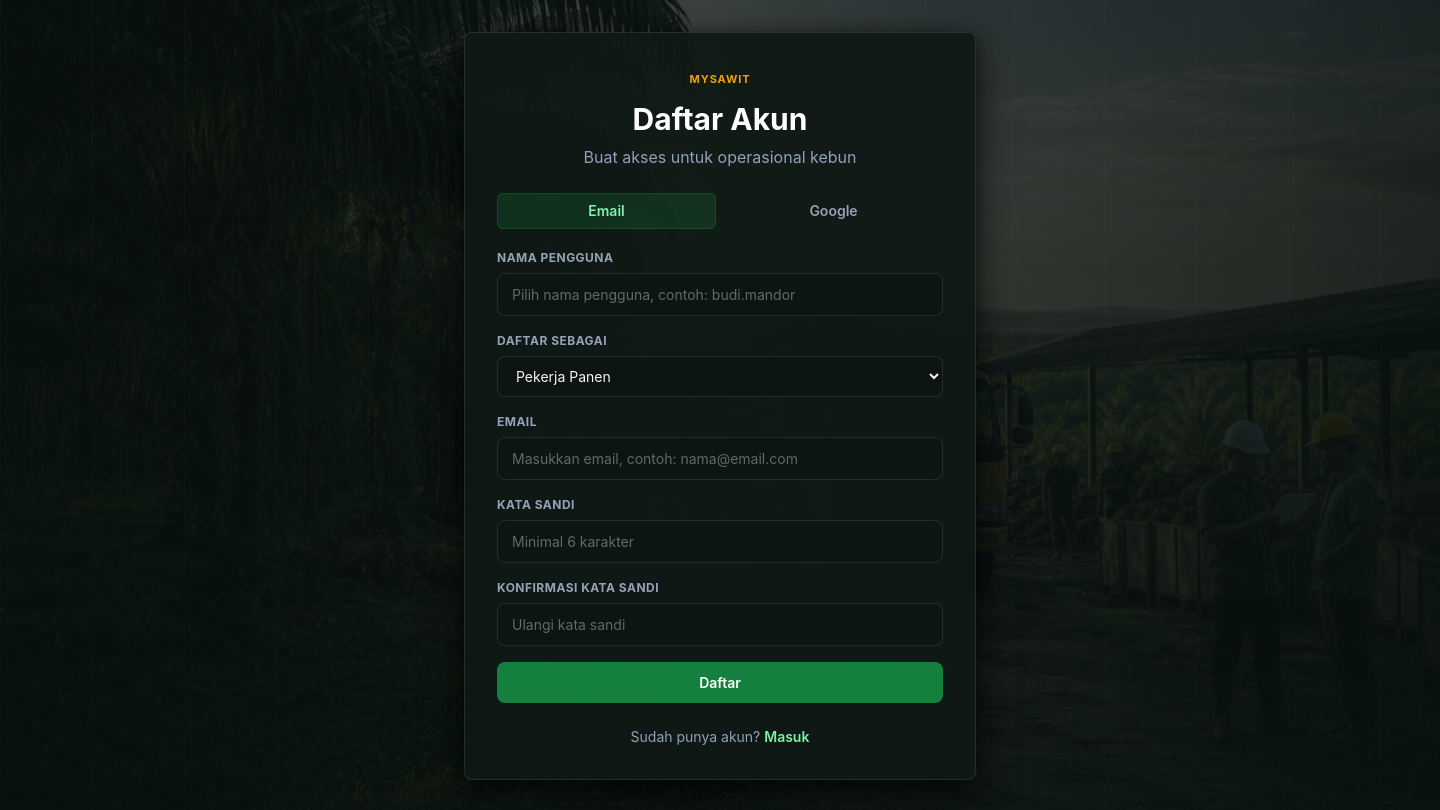
Test: RegisterPage › shows error from Error instance on register failure
This screenshot has width=1440, height=810.
Step 1. Type "user" into the field with placeholder "Pilih nama pengguna, contoh: budi.mandor" → (720, 294), box [497,273,943,316]
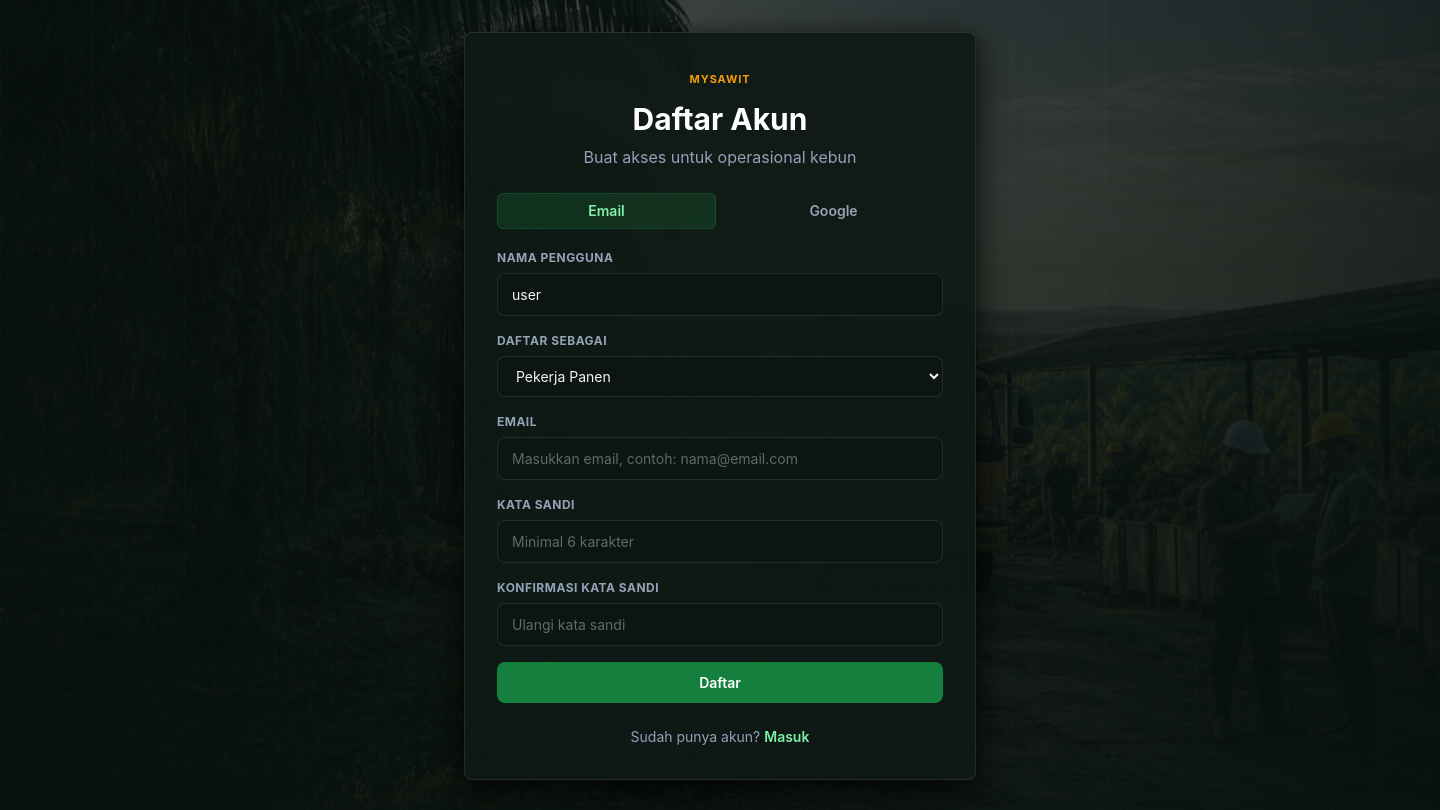
Step 2. Type "user@mail.com" into the field with placeholder "Masukkan email, contoh: nama@email.com" → (720, 458), box [497,437,943,480]
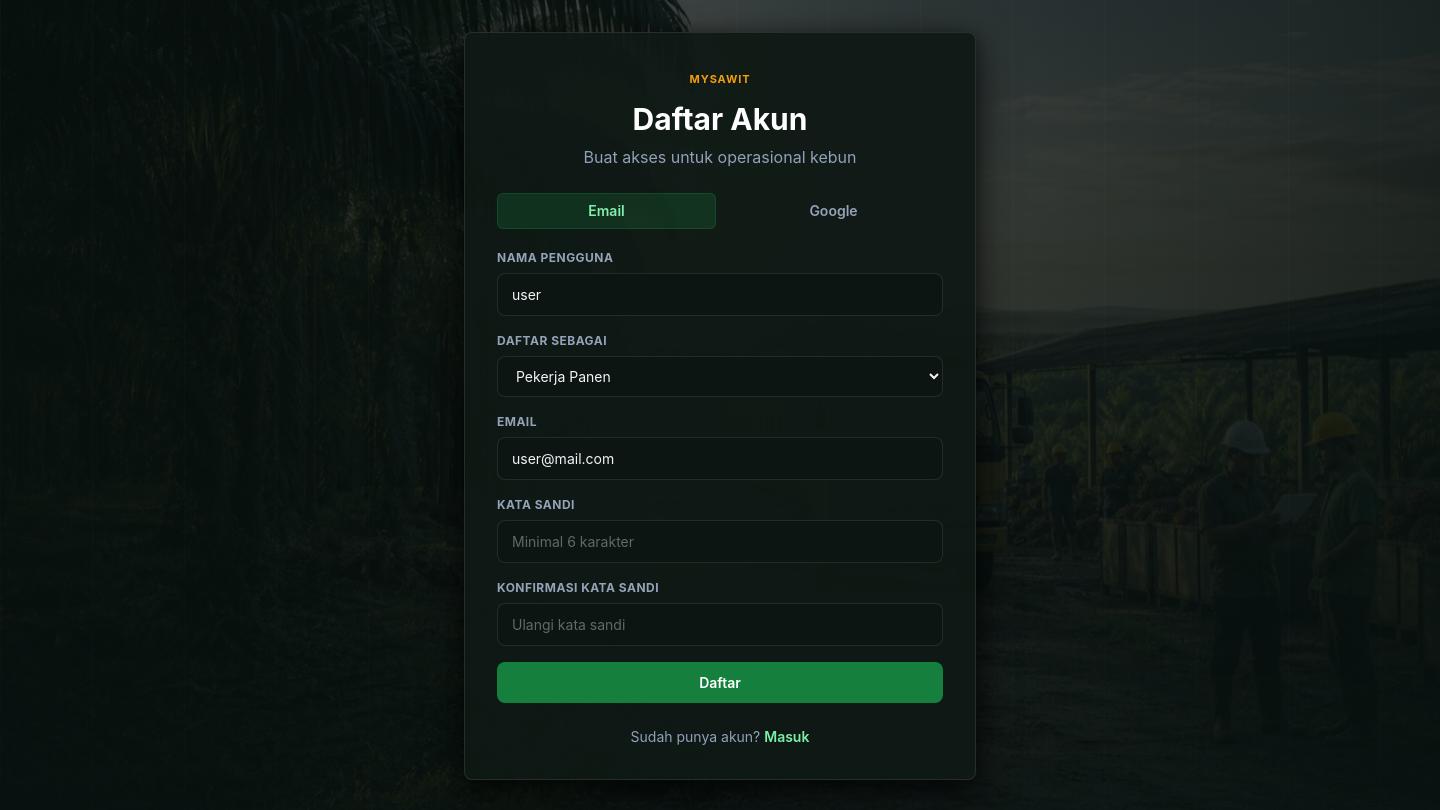
Step 3. Type "secret123" into the password field with placeholder "Minimal 6 karakter" → (720, 542), box [497,520,943,563]
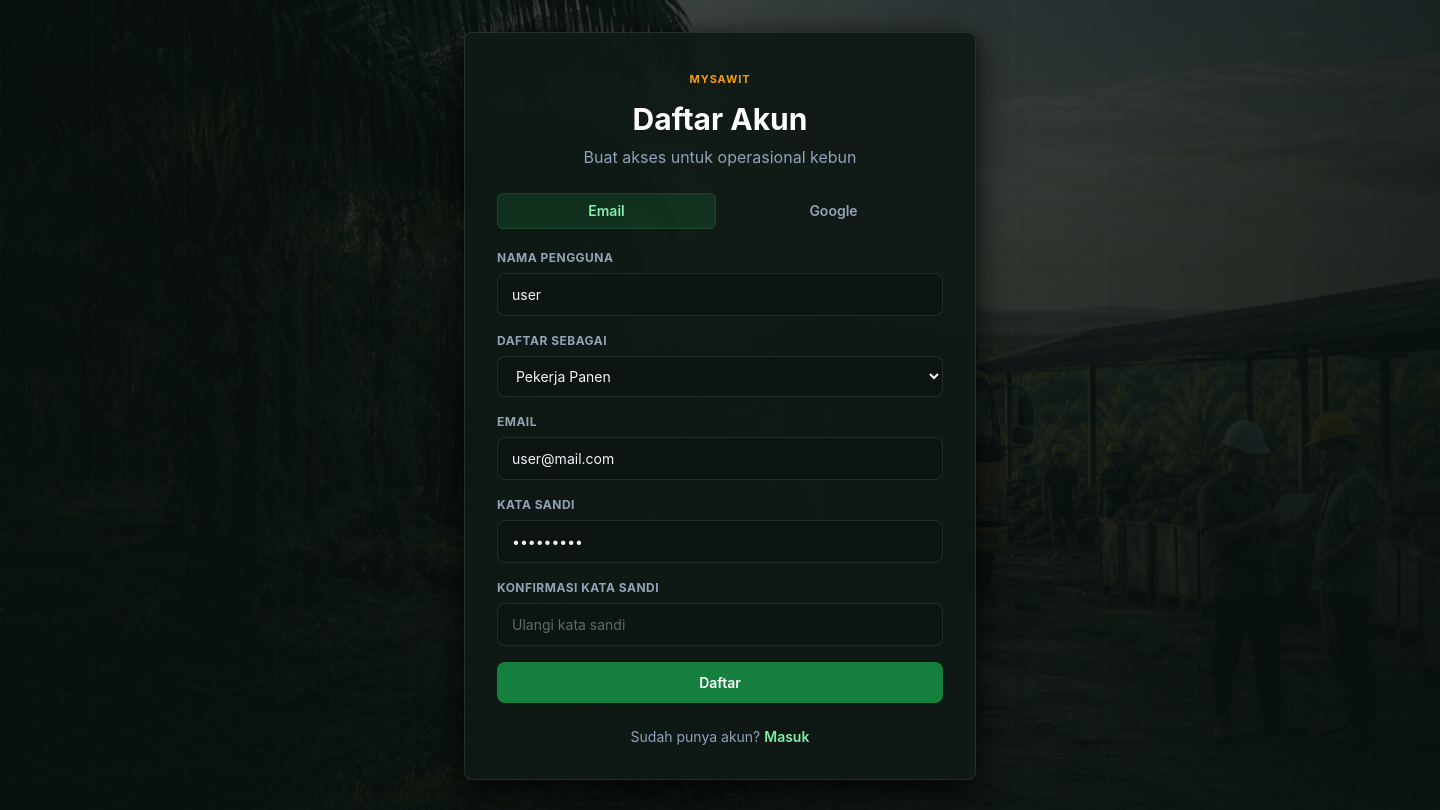
Step 4. Type "secret123" into the password field with placeholder "Ulangi kata sandi" → (720, 624), box [497,603,943,646]
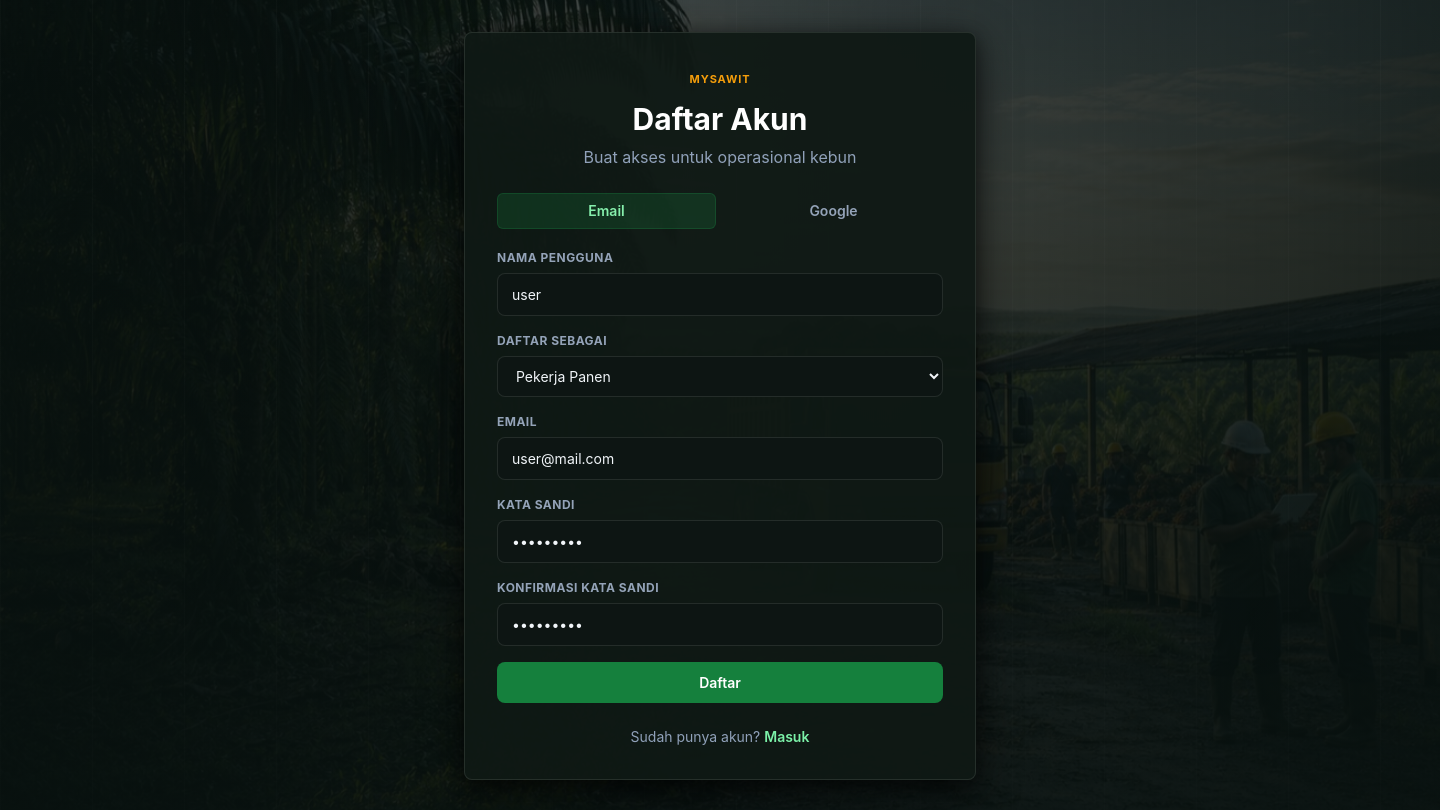
Step 5. Click the button "Daftar" → (720, 682), box [497,662,943,703]
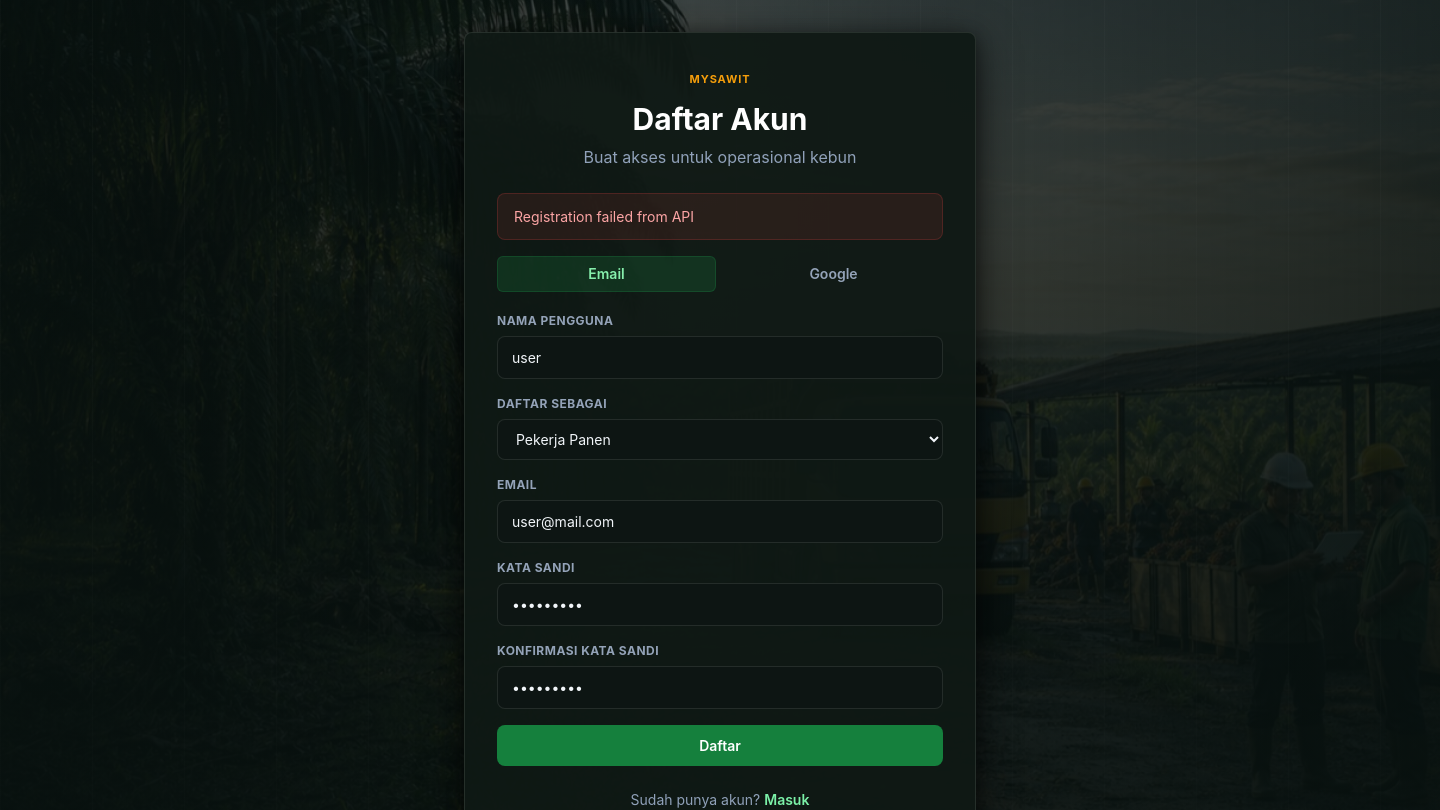
Result: the text "Registration failed from API" is shown at [514,206,694,227]
